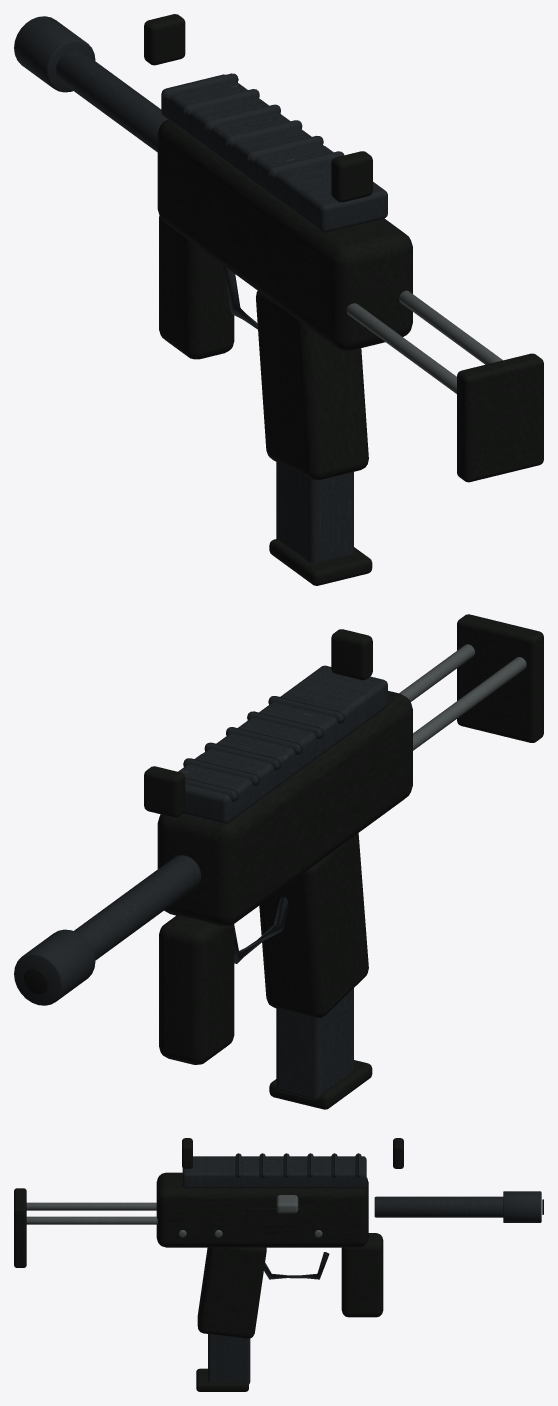
3 views of the same model, one above another, from view 1: azimuth 30°, elevation 25°; view 2: azimuth 150°, elevation 25°; view 3: azimuth 270°, elevation 25° (orthographic). The views are drawn at different scales.
Visible parts, largest first — view 1: weapon_Reinforced polymer, weapon_Manganese phosphate, magazine_Manganese phosphate, weapon_Milled fasteners, magazine_Reinforced polymer; view 2: weapon_Reinforced polymer, weapon_Manganese phosphate, magazine_Manganese phosphate, weapon_Milled fasteners, magazine_Reinforced polymer; view 3: weapon_Reinforced polymer, weapon_Manganese phosphate, weapon_Milled fasteners, magazine_Manganese phosphate, magazine_Reinforced polymer, bolt_Milled fasteners.
Boxes of the visible parts, x1,y1,x2,y2 form: weapon_Reinforced polymer: [144, 14, 543, 482]; weapon_Manganese phosphate: [14, 16, 387, 329]; magazine_Manganese phosphate: [276, 462, 353, 562]; weapon_Milled fasteners: [346, 290, 502, 393]; magazine_Reinforced polymer: [269, 539, 372, 585]; weapon_Reinforced polymer: [24, 614, 543, 1064]; weapon_Manganese phosphate: [14, 665, 387, 1005]; magazine_Manganese phosphate: [276, 988, 353, 1100]; weapon_Milled fasteners: [399, 644, 526, 750]; magazine_Reinforced polymer: [269, 1060, 372, 1109]; weapon_Reinforced polymer: [14, 1138, 543, 1338]; weapon_Manganese phosphate: [182, 1153, 541, 1279]; weapon_Milled fasteners: [26, 1202, 322, 1237]; magazine_Manganese phosphate: [208, 1334, 250, 1383]; magazine_Reinforced polymer: [196, 1368, 248, 1391]; bolt_Milled fasteners: [276, 1195, 298, 1213].
Bounding box in the file's own units: 0.0905 × 0.335 × 0.663.
Materials: 3 (3 with a texture image).
